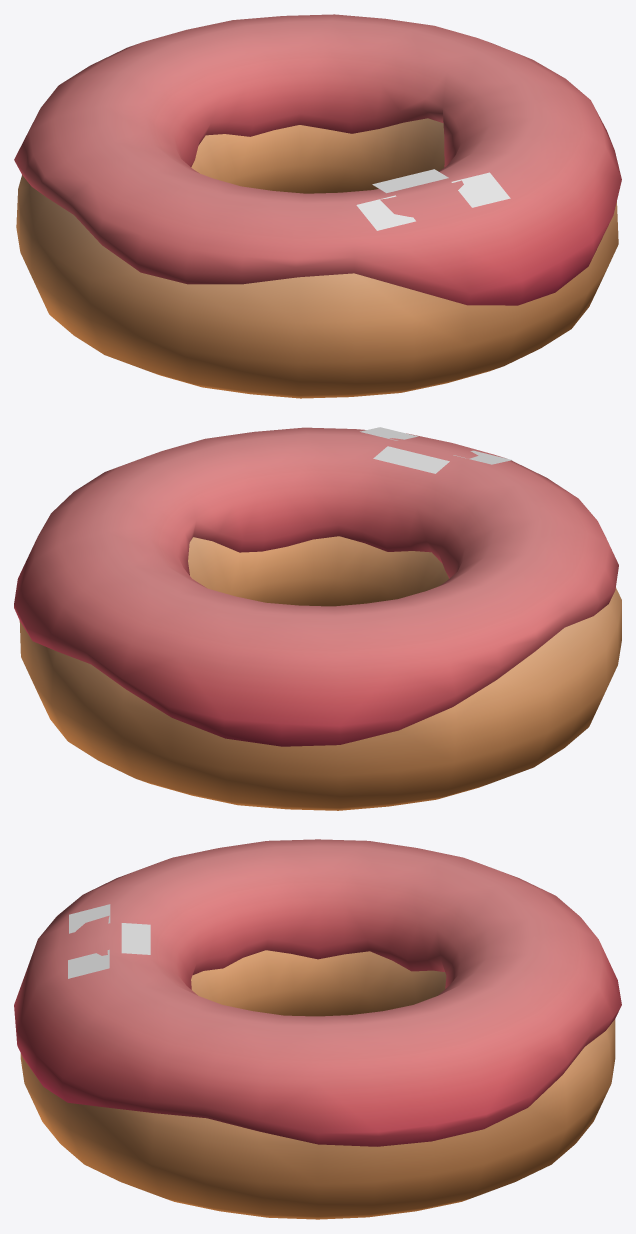
File: donut_pink_smile.fbx
The picture shows the model from 3 angles, top to bottom: view 1: azimuth 30°, elevation 25°; view 2: azimuth 150°, elevation 25°; view 3: azimuth 270°, elevation 25°; orthographic projection.
Visible parts, largest first — view 1: donut_pink_smile; view 2: donut_pink_smile; view 3: donut_pink_smile.
Part boxes in pixels (<box>): donut_pink_smile: <box>14,14,621,398</box>; donut_pink_smile: <box>14,427,621,810</box>; donut_pink_smile: <box>14,839,621,1219</box>.
Bounding box in the file's own units: 51.09 × 17.59 × 51.66.
Materials: 2 (1 with a texture image).
